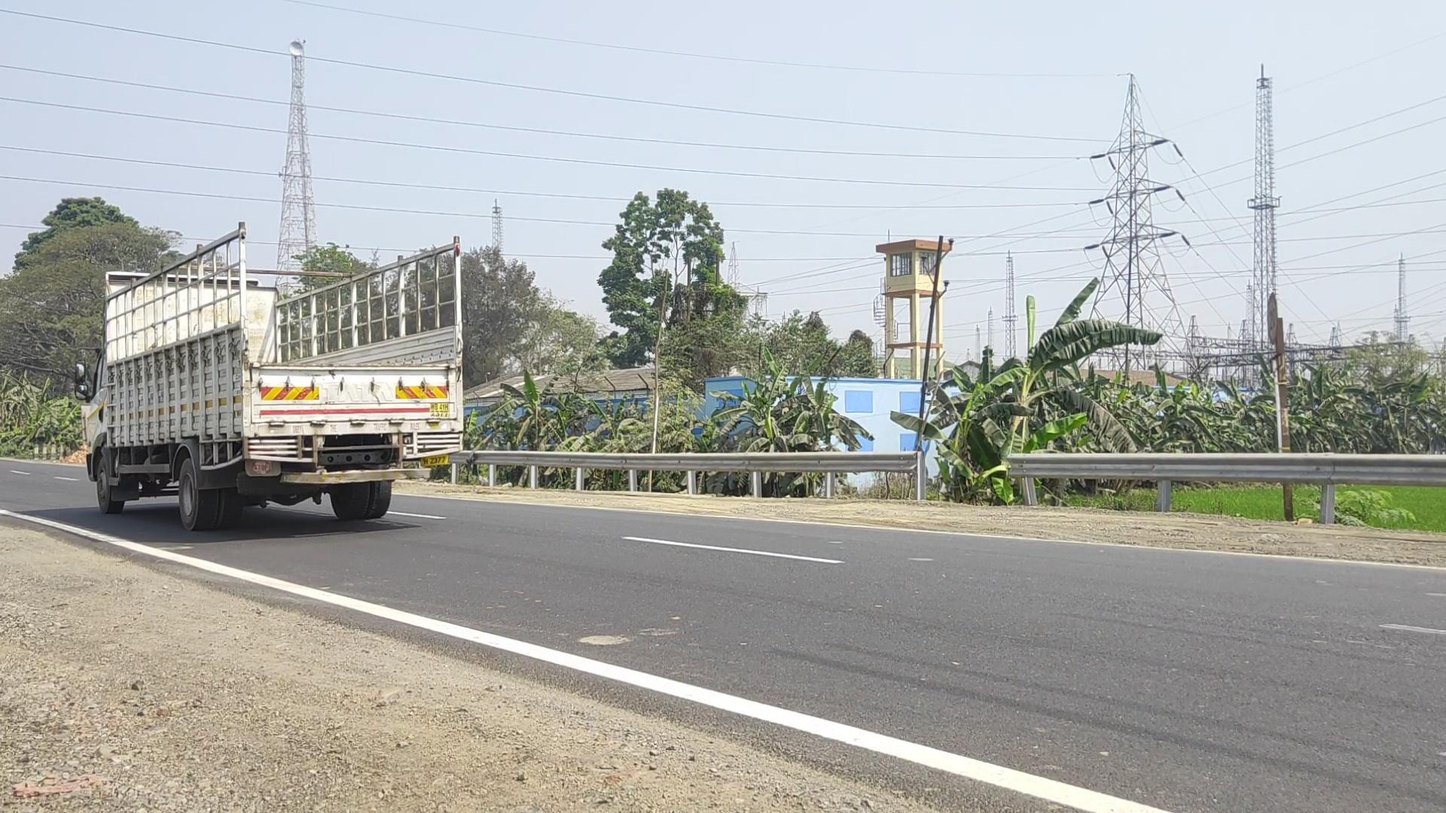van: (75, 221, 465, 531)
